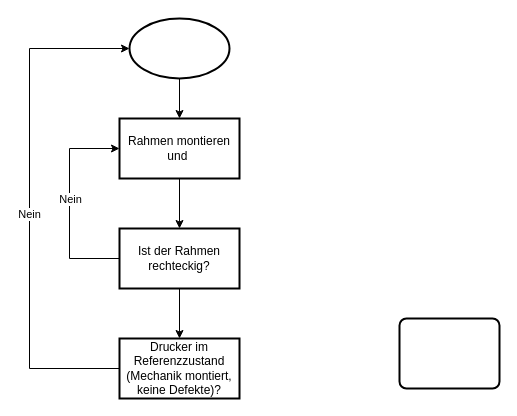
Image size: 517x416. Some labels were removed from this diagram. The box of each missing label's shape, as (x1, y1, x2, y2) in pixels:
Ist der Rahmen ein Rechteck?: (398, 317, 500, 389)
Start Kalibrations Prozess: (128, 17, 230, 79)
